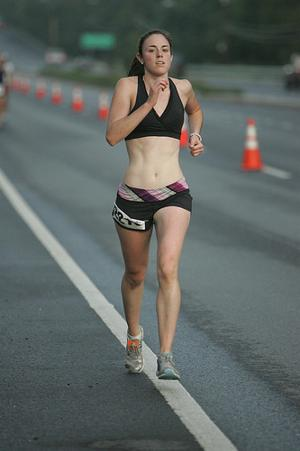person: (103, 29, 205, 390)
